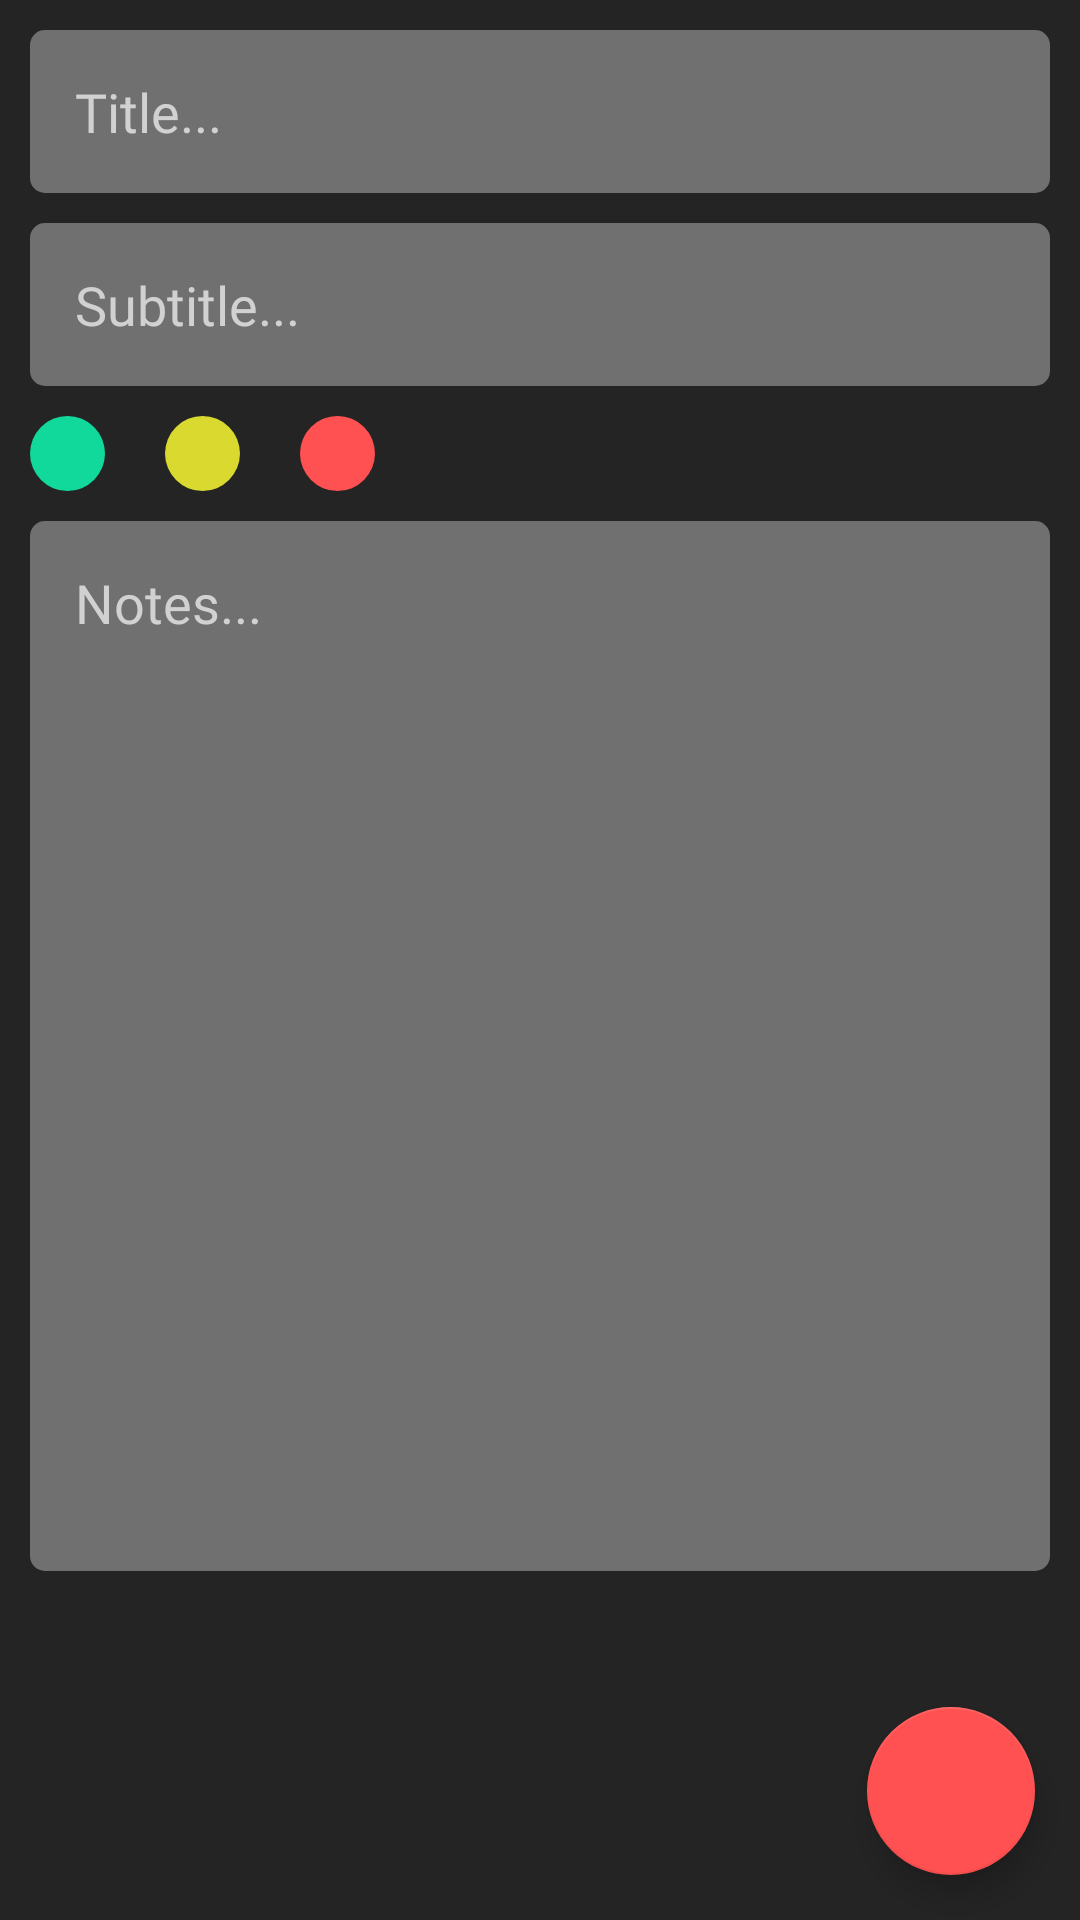

Named icons in this screenshot (1080 × 1920) and their centers, (x,y):
dot: (67,453), (202,453), (337,453)
